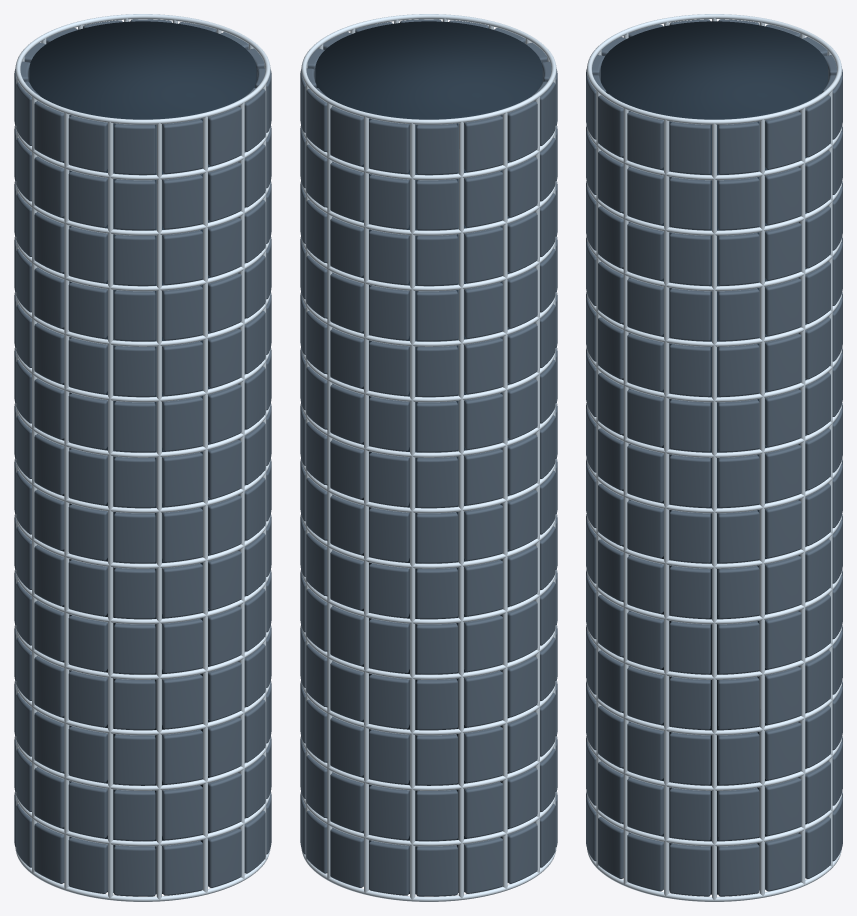
File: SciFiEnergyColumn.fbx
3 views of the same model, side by side, from view 1: azimuth 30°, elevation 25°; view 2: azimuth 150°, elevation 25°; view 3: azimuth 270°, elevation 25° (orthographic).
Parts seen in each view (by area): view 1: Armor Plates, Central Energy Housing, Glass_Vertical_11, Glass_Vertical_12, Glass_Vertical_10, Glass_Vertical_13, Glass_Horizontal_15, Glass_Vertical_14, Glass_Vertical_09, Glass_Vertical_15, Glass_Horizontal_09, Glass_Horizontal_01 (+12 smaller); view 2: Armor Plates, Central Energy Housing, Glass_Vertical_07, Glass_Vertical_06, Glass_Vertical_08, Glass_Vertical_05, Glass_Horizontal_15, Glass_Vertical_04, Glass_Vertical_09, Glass_Vertical_03, Glass_Horizontal_09, Glass_Horizontal_01 (+12 smaller); view 3: Armor Plates, Central Energy Housing, Glass_Vertical_02, Glass_Vertical_16, Glass_Vertical_01, Glass_Vertical_03, Glass_Vertical_15, Glass_Horizontal_15, Glass_Vertical_04, Glass_Vertical_14, Glass_Horizontal_01, Glass_Horizontal_04 (+12 smaller).
Part boxes in pixels (box(x1,y1,x2,y2)): Armor Plates: box(14, 19, 271, 896); Central Energy Housing: box(29, 21, 256, 894); Glass_Vertical_11: box(108, 121, 113, 898); Glass_Vertical_12: box(156, 123, 161, 899); Glass_Vertical_10: box(64, 112, 69, 888); Glass_Vertical_13: box(203, 116, 207, 892); Glass_Horizontal_15: box(15, 14, 270, 124); Glass_Vertical_14: box(239, 102, 244, 878); Glass_Vertical_09: box(32, 96, 37, 873); Glass_Vertical_15: box(263, 84, 266, 859); Glass_Horizontal_09: box(15, 403, 270, 457); Glass_Horizontal_01: box(15, 847, 270, 901); Armor Plates: box(300, 19, 557, 896); Central Energy Housing: box(315, 21, 542, 894); Glass_Vertical_07: box(458, 121, 463, 898); Glass_Vertical_06: box(410, 123, 415, 899); Glass_Vertical_08: box(502, 112, 507, 888); Glass_Vertical_05: box(364, 116, 368, 892); Glass_Horizontal_15: box(301, 14, 556, 124); Glass_Vertical_04: box(327, 102, 332, 878); Glass_Vertical_09: box(534, 96, 539, 873); Glass_Vertical_03: box(305, 84, 308, 859); Glass_Horizontal_09: box(301, 403, 556, 457); Glass_Horizontal_01: box(301, 847, 556, 901); Armor Plates: box(586, 19, 842, 896); Central Energy Housing: box(601, 21, 827, 894); Glass_Vertical_02: box(759, 119, 764, 895); Glass_Vertical_16: box(664, 119, 669, 895); Glass_Vertical_01: box(712, 123, 716, 900); Glass_Vertical_03: box(800, 108, 805, 884); Glass_Vertical_15: box(623, 108, 628, 884); Glass_Horizontal_15: box(587, 14, 841, 124); Glass_Vertical_04: box(828, 90, 832, 866); Glass_Vertical_14: box(596, 90, 600, 866); Glass_Horizontal_01: box(587, 849, 841, 901); Glass_Horizontal_04: box(587, 682, 841, 735).
Bounding box in the file's own units: 300 × 1006 × 300.
